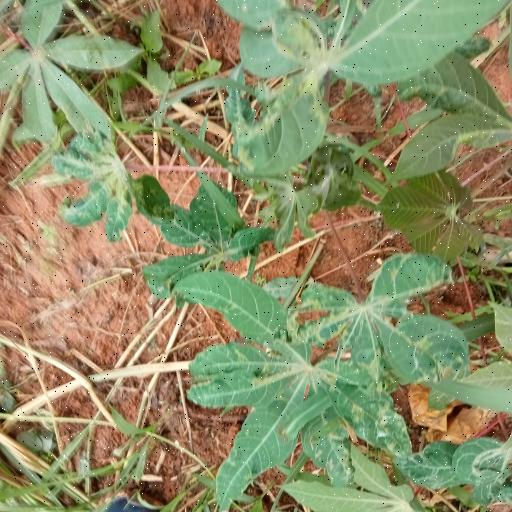Cassava_Mosaic: (176, 269, 374, 492), (287, 259, 470, 381)
